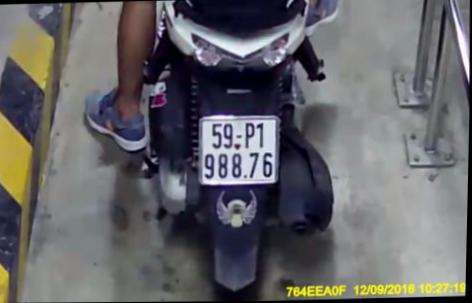LP: (196, 111, 285, 185)
